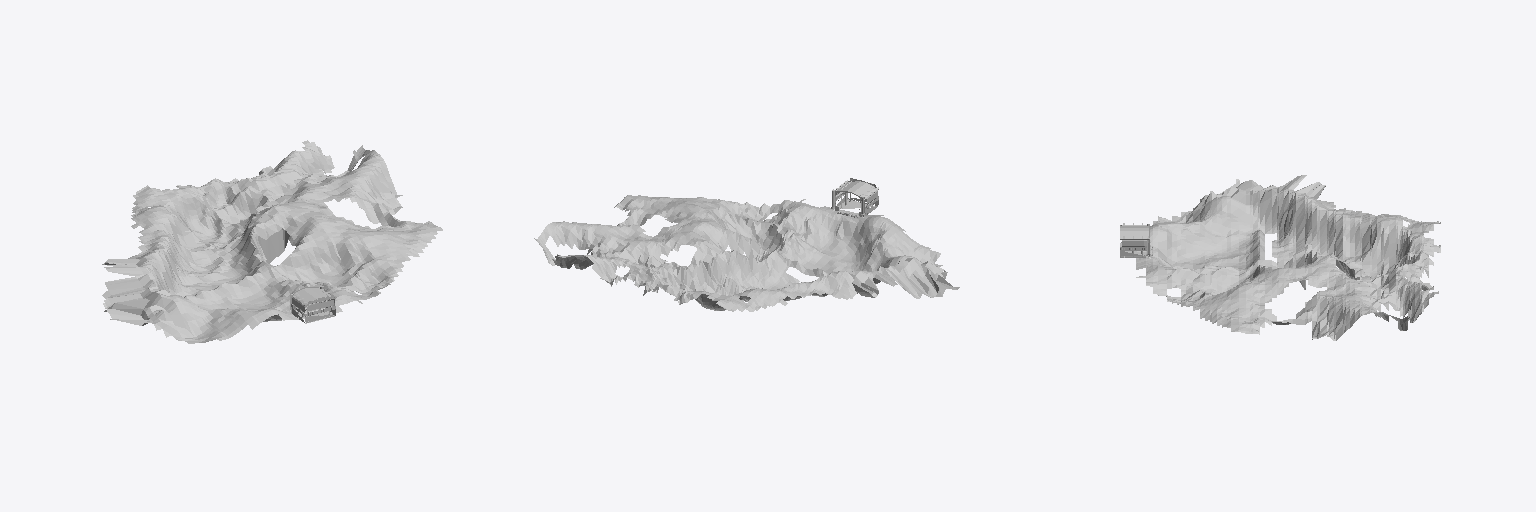
The model's file is lowpoly5.obj.
The picture shows the model from 3 angles: view 1: azimuth 30°, elevation 25°; view 2: azimuth 150°, elevation 25°; view 3: azimuth 270°, elevation 25°; orthographic projection.
Parts seen in each view (by area): view 1: polySurface2 polySurface1; view 2: polySurface2 polySurface1; view 3: polySurface2 polySurface1.
Part boxes in pixels (left/top/right/bottom): polySurface2 polySurface1: left=102, top=140, right=442, bottom=343; polySurface2 polySurface1: left=534, top=195, right=959, bottom=311; polySurface2 polySurface1: left=1136, top=175, right=1440, bottom=340.
Bounding box in the file's own units: 1650 × 247 × 1353.